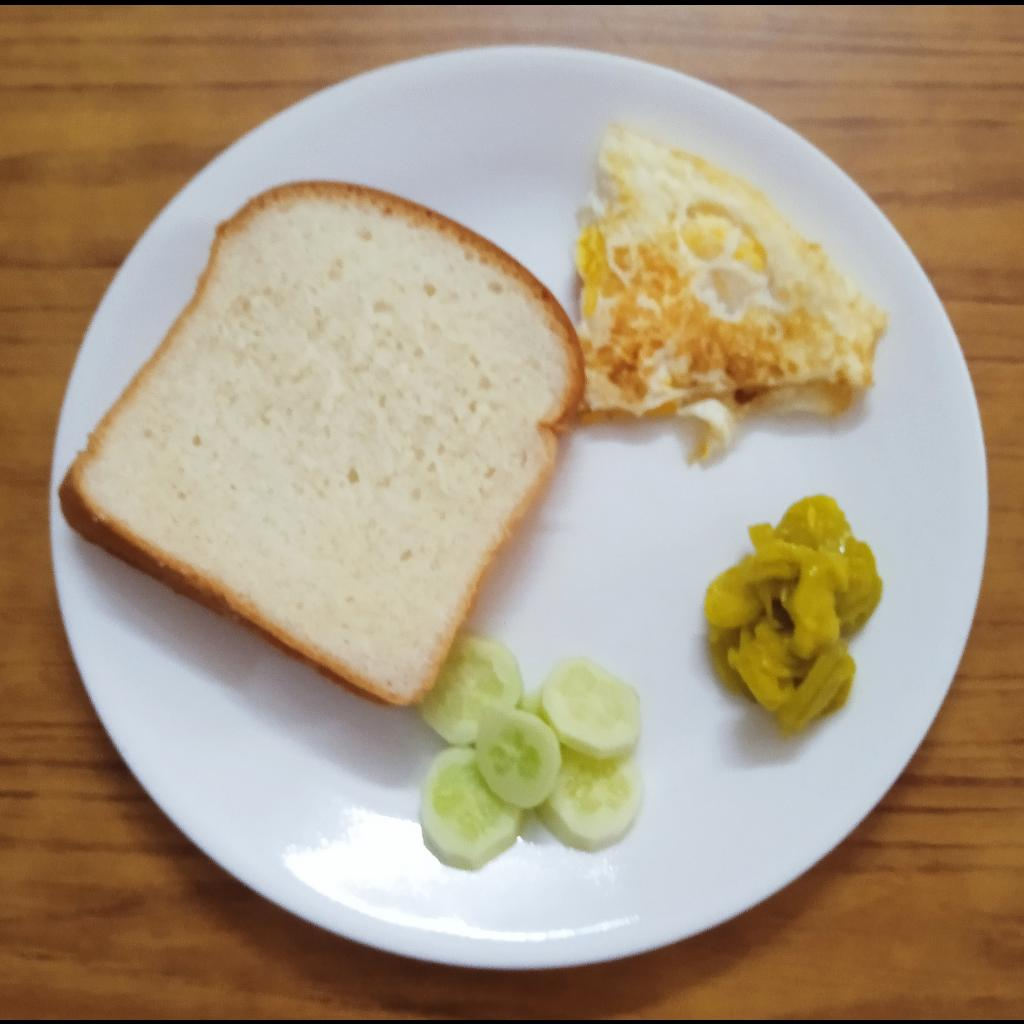bread: (64, 172, 586, 714)
cucumber: (415, 635, 647, 870)
egg-poached: (568, 109, 888, 467)
lau: (704, 494, 883, 732)
